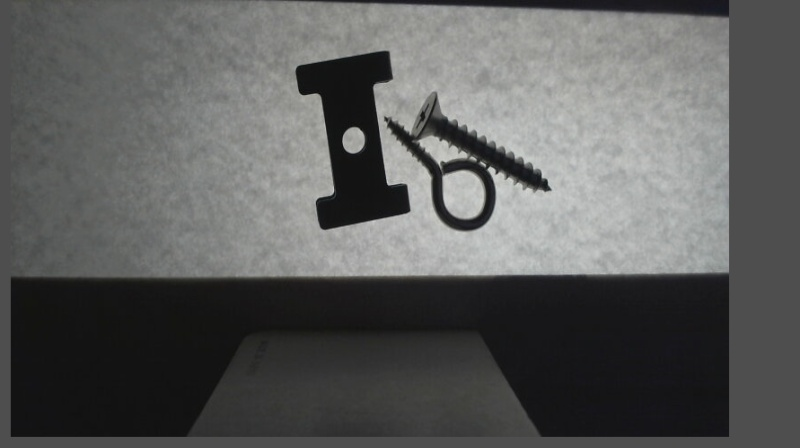O001: (381, 114, 496, 231)
O002: (294, 50, 410, 230)
S001: (409, 90, 554, 194)
